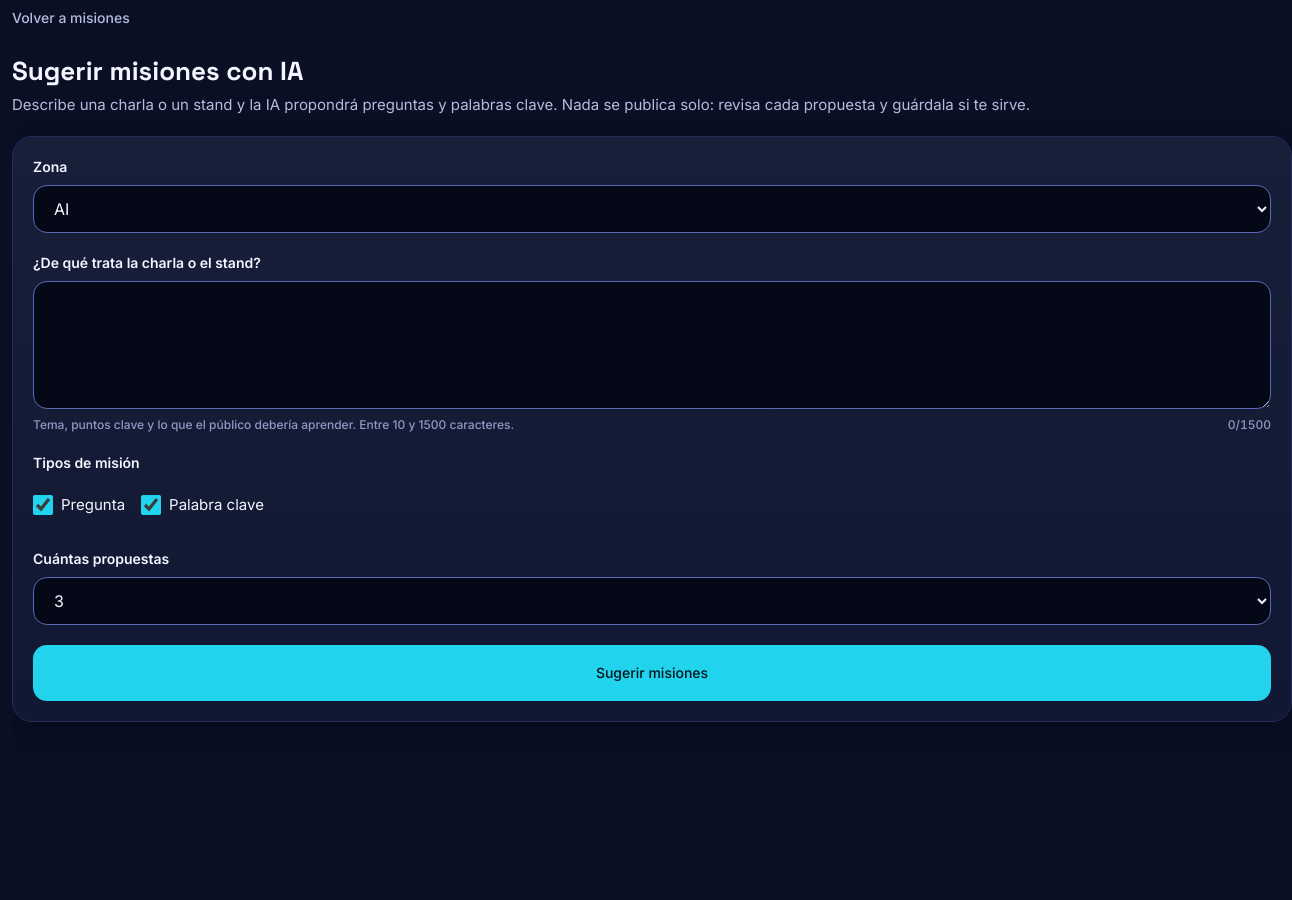
Test: SuggestMissionsView › explains a not-configured answer
The width and height of the screenshot is (1292, 900).
Type "Charla sobre Gemini y agentes" into the text box labelled "¿De qué trata la charla o el stand?" at (652, 345), box [33,281,1271,409]
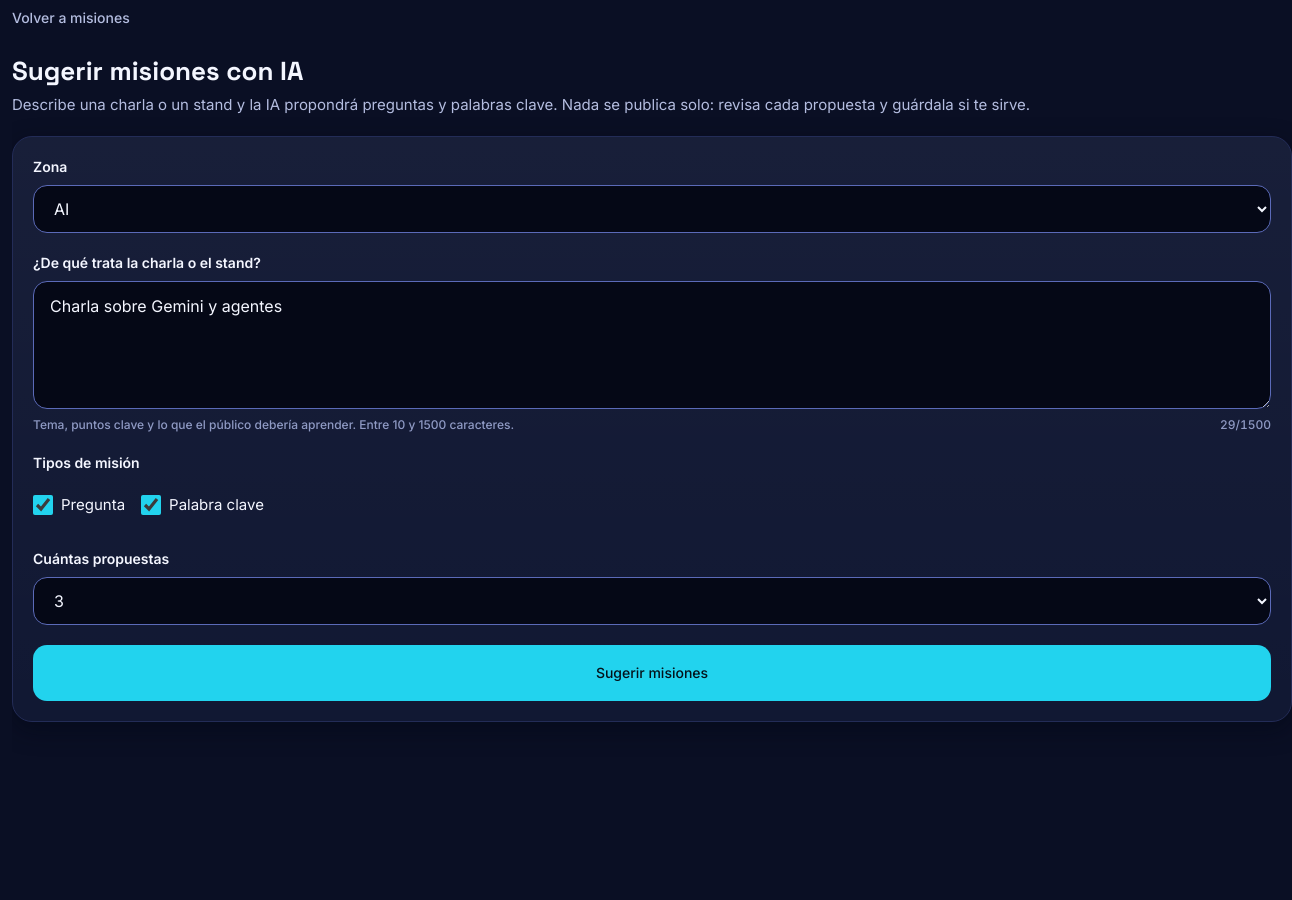
Click the button "Sugerir misiones" at (652, 673), box [33,645,1271,701]
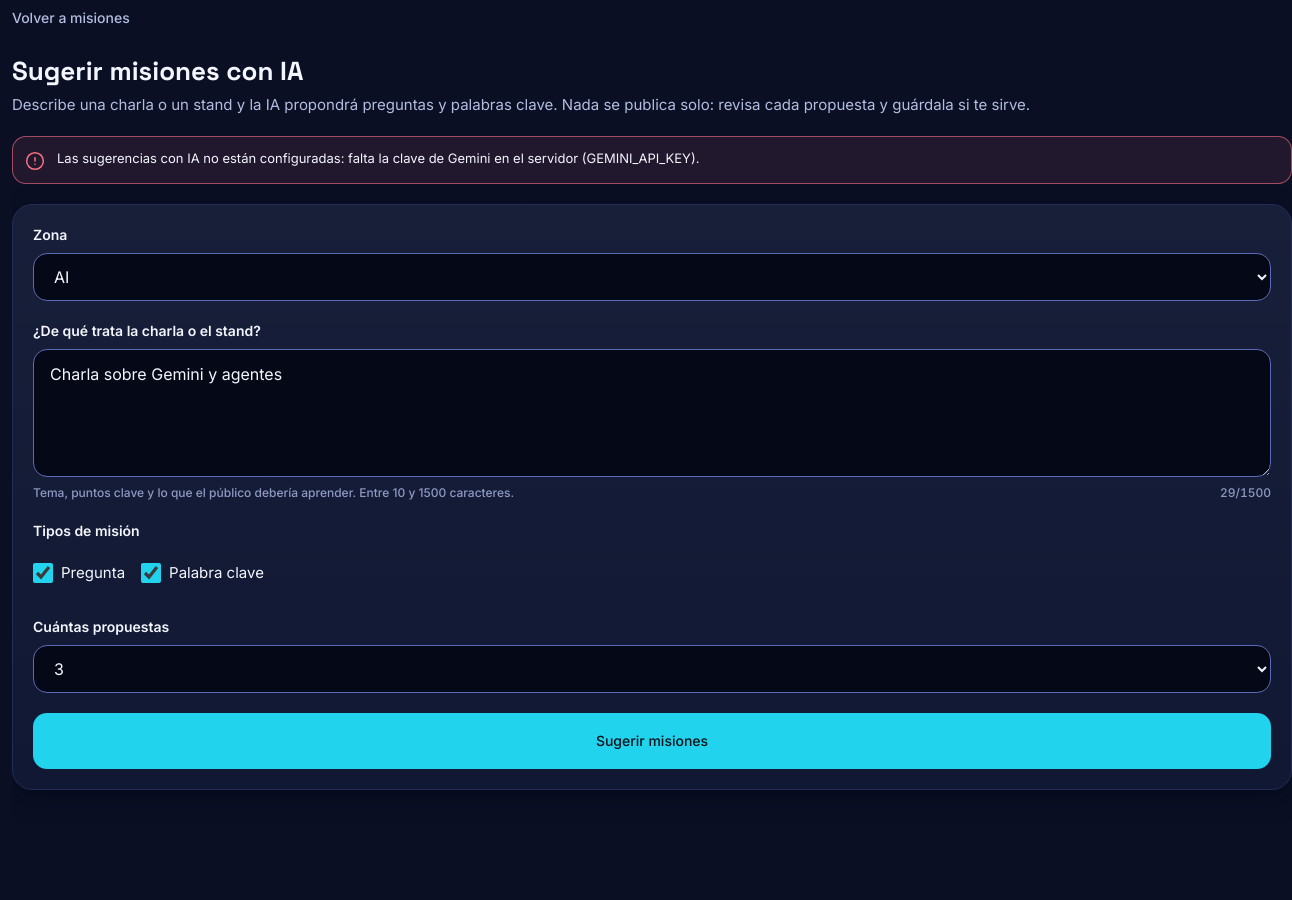
Expected: the message shows "Las sugerencias con IA no están configuradas: falta la clave de Gemini en el servidor (GEMINI_API_KEY).", [57,150,699,166]
